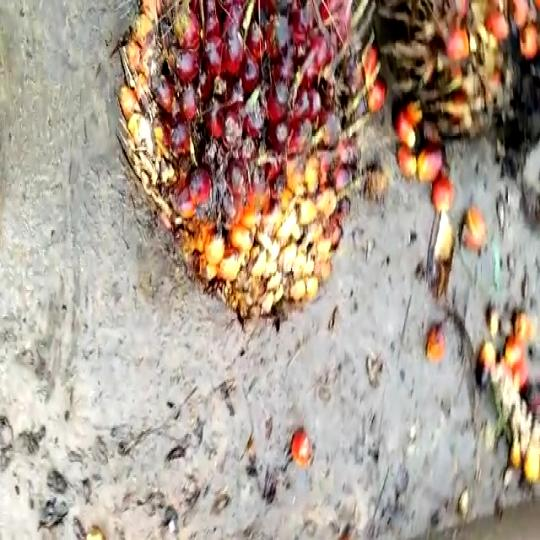kurang masak: (114, 0, 379, 319)
